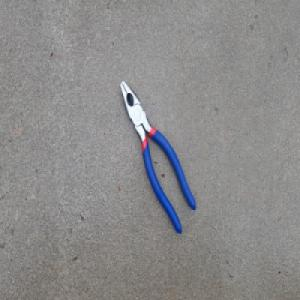Pliers: (119, 80, 196, 235)
